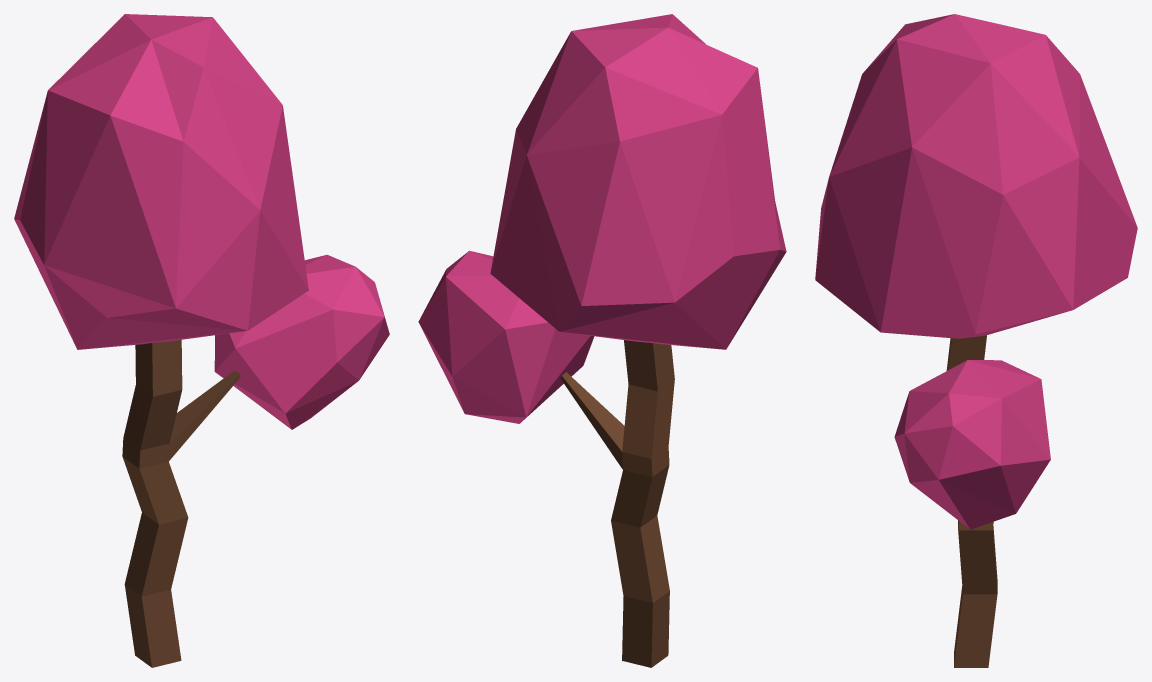
File: Tree_41_Pink.fbx
3 views of the same model, side by side, from view 1: azimuth 30°, elevation 25°; view 2: azimuth 150°, elevation 25°; view 3: azimuth 270°, elevation 25° (orthographic).
Visible parts, largest first — view 1: Tree_41_Pink_Part_1, Tree_41_Pink_Part_2; view 2: Tree_41_Pink_Part_1, Tree_41_Pink_Part_2; view 3: Tree_41_Pink_Part_1, Tree_41_Pink_Part_2.
Part boxes in pixels (bbox=[...]): Tree_41_Pink_Part_1: bbox=[14, 14, 389, 429]; Tree_41_Pink_Part_2: bbox=[122, 339, 240, 667]; Tree_41_Pink_Part_1: bbox=[418, 14, 786, 423]; Tree_41_Pink_Part_2: bbox=[560, 340, 674, 667]; Tree_41_Pink_Part_1: bbox=[815, 14, 1137, 529]; Tree_41_Pink_Part_2: bbox=[946, 335, 997, 667].
Bounding box in the file's own units: 450 × 794 × 363.
